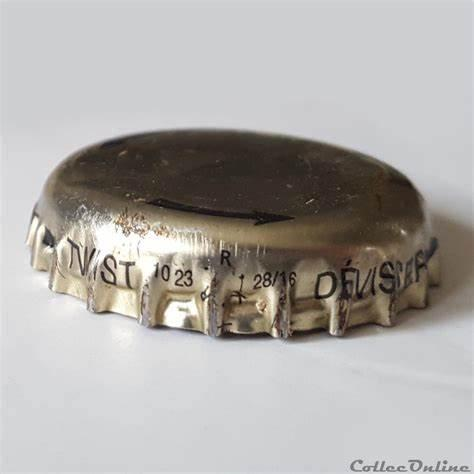metal: (26, 130, 439, 338)
